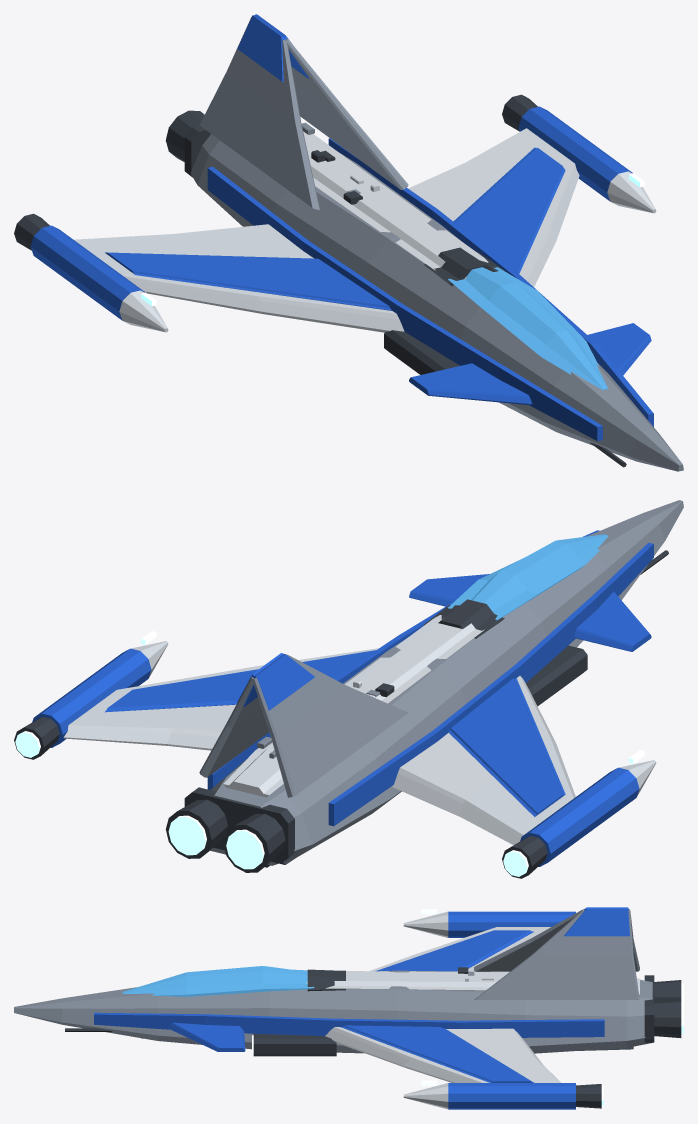
File: scout.glb
3 renders of one model, top to bottom at view 1: azimuth 30°, elevation 25°; view 2: azimuth 150°, elevation 25°; view 3: azimuth 270°, elevation 25°, orthographic. The views are drawn at different scales.
Visible parts, largest first — view 1: hull_scout; view 2: hull_scout; view 3: hull_scout.
Boxes of the visible parts, x1,y1,x2,y2 form: hull_scout: [14, 14, 683, 471]; hull_scout: [14, 500, 683, 878]; hull_scout: [14, 907, 683, 1109].
Bounding box in the file's own units: 13.54 × 4.78 × 20.98.
